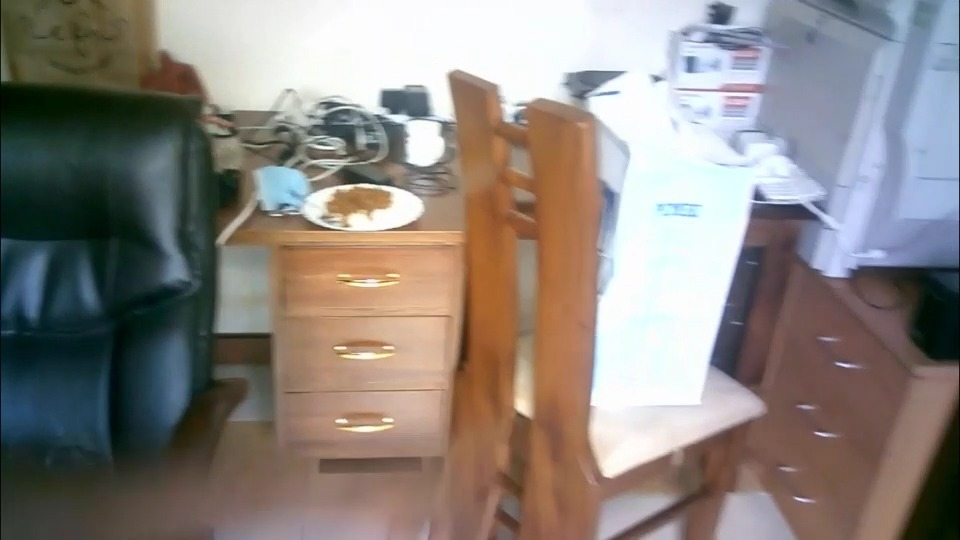wheat_flour_blue_label: (595, 105, 759, 414)
